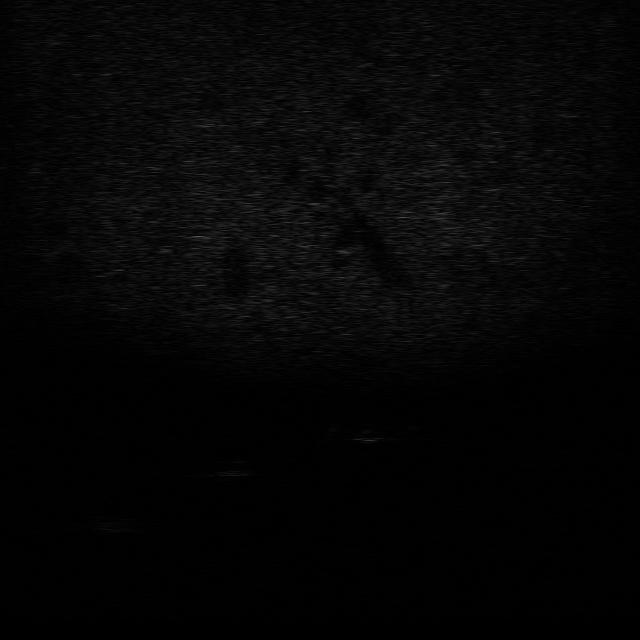ball: (205, 454, 256, 482)
circle cage: (60, 508, 142, 536)
human body: (315, 416, 420, 447)
